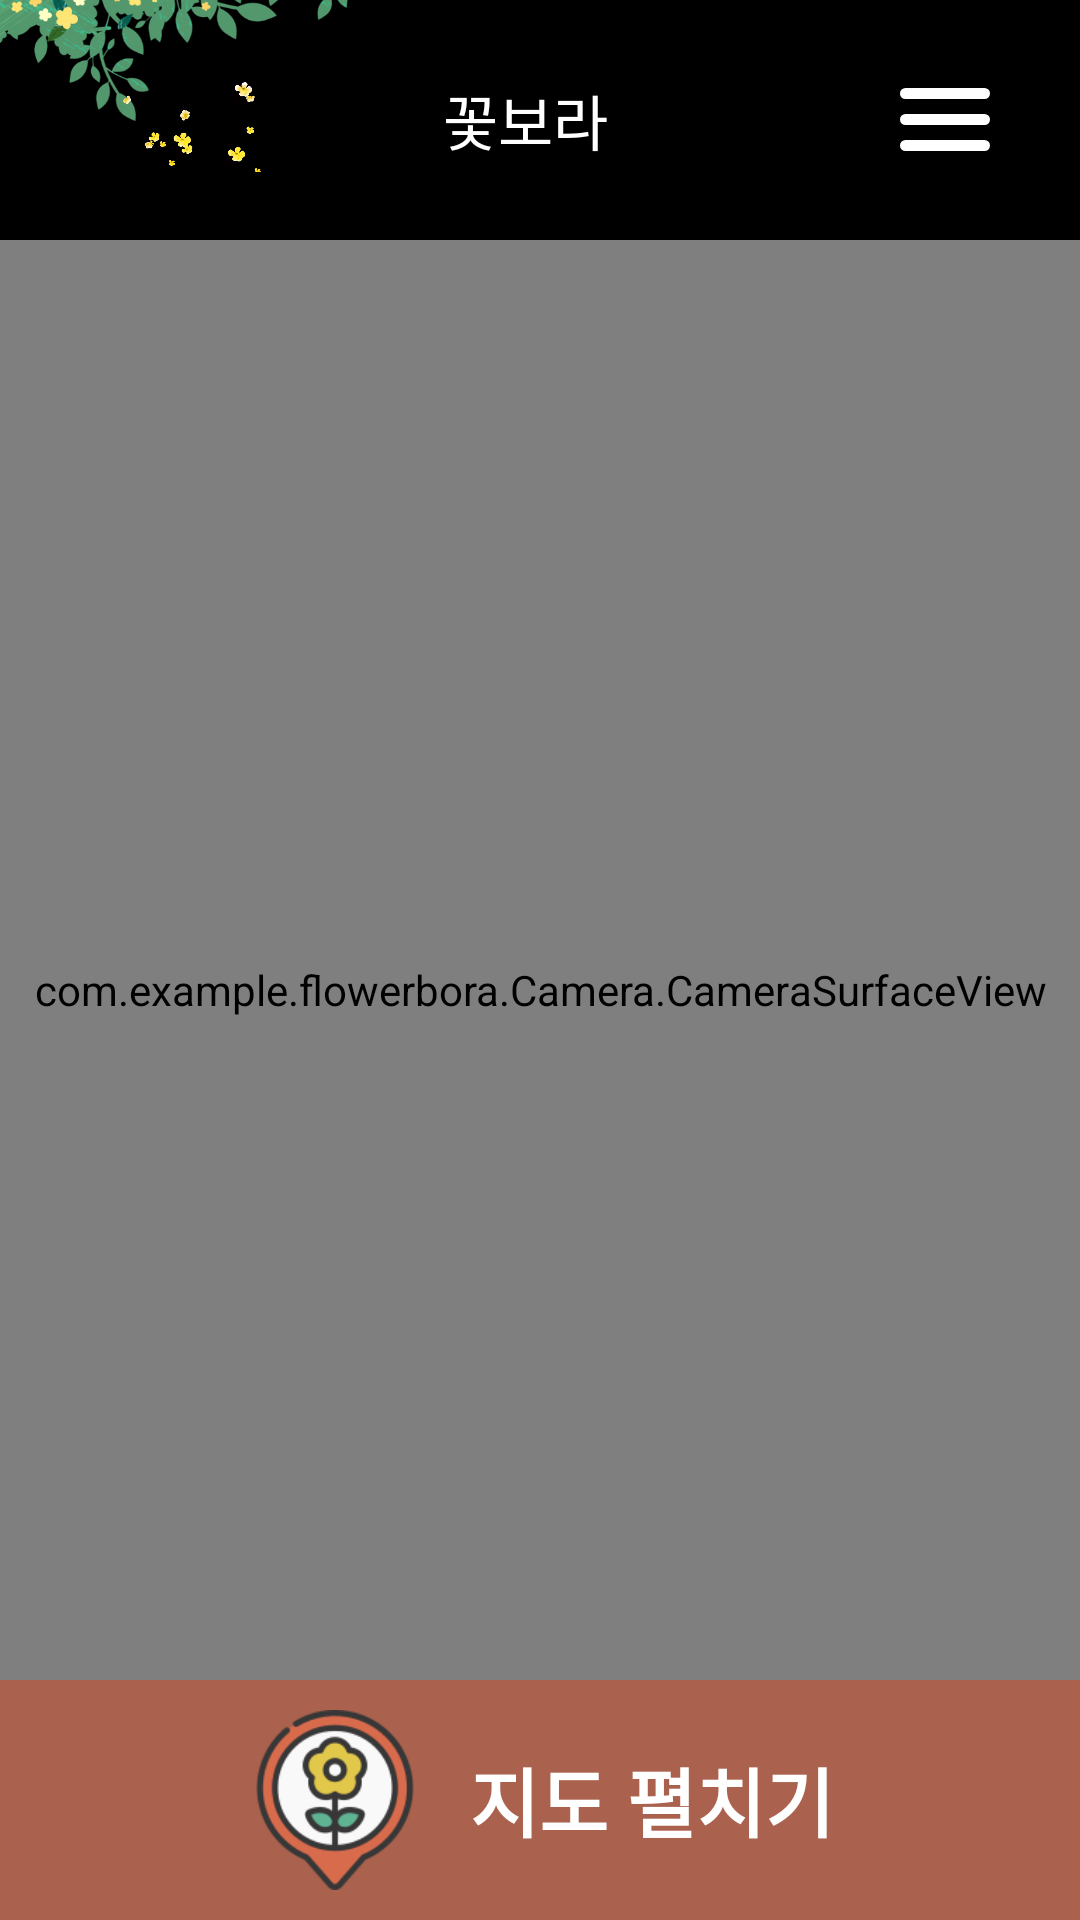

Icon click points for this 1080 x 1920 phone screenshot, format (x,y):
flower marker: (335,1800)
